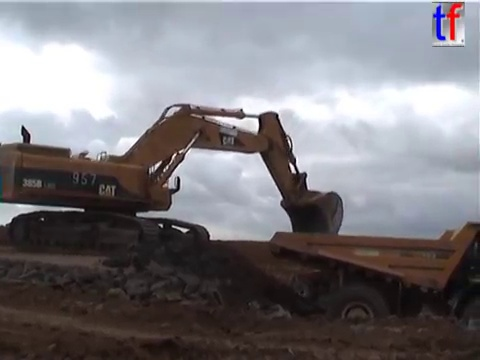excavator: (1, 100, 347, 261)
truck: (266, 219, 480, 352)
